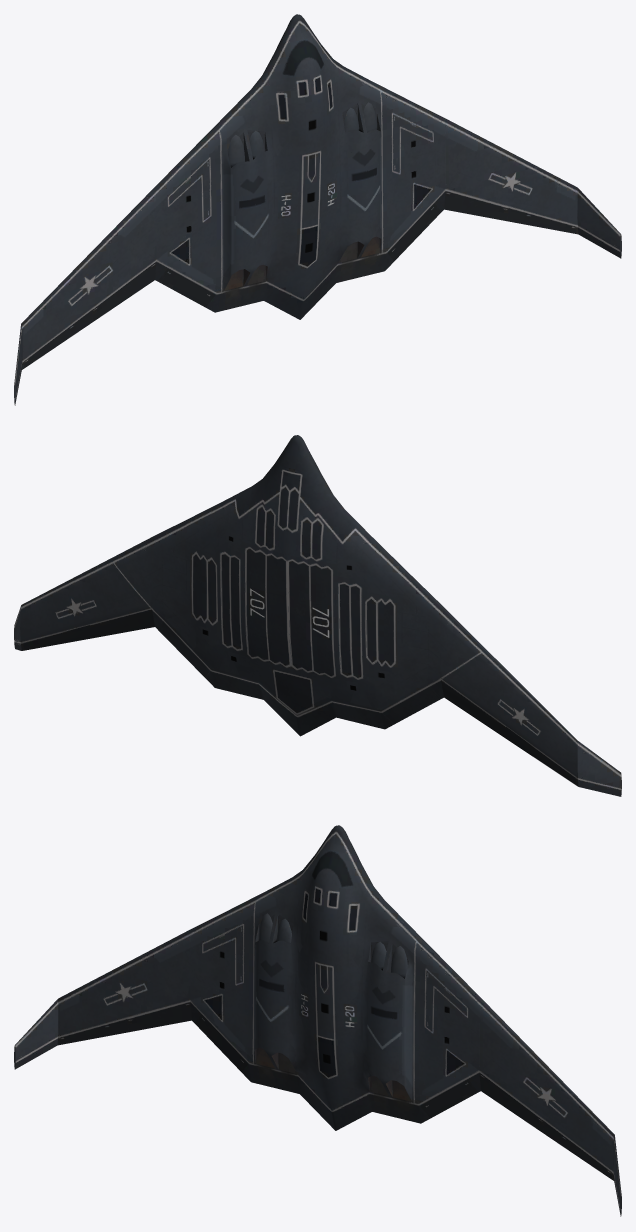
File: xian-h20.fbx
The picture shows the model from 3 angles, top to bottom: view 1: azimuth 30°, elevation 25°; view 2: azimuth 150°, elevation 25°; view 3: azimuth 330°, elevation 25°; orthographic projection.
Parts seen in each view (by area): view 1: hull #107927_1, hull_lod2_0; view 2: hull_lod2_0, hull #107927_1; view 3: hull #107927_1, hull_lod2_0.
Boxes of the visible parts, x1,y1,x2,y2 form: hull #107927_1: (14, 14, 621, 405); hull_lod2_0: (15, 17, 620, 403); hull_lod2_0: (14, 437, 621, 796); hull #107927_1: (14, 435, 621, 796); hull #107927_1: (14, 825, 621, 1216); hull_lod2_0: (15, 828, 620, 1214).
Size of the model in its own units: 10.39 by 4.95 by 0.9205.
2 materials, 2 textured.
